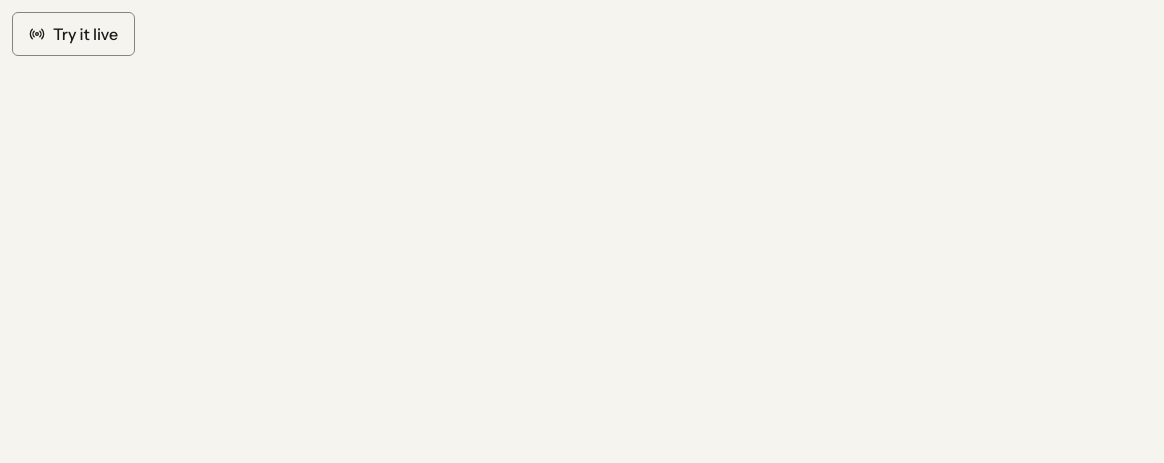
Scenario: TryLive › runs the current code and shows the output, each call’s cost and the allowance
This screenshot has width=1164, height=463.
Click the button "Try it live": [74, 34] box [12,12,135,56]
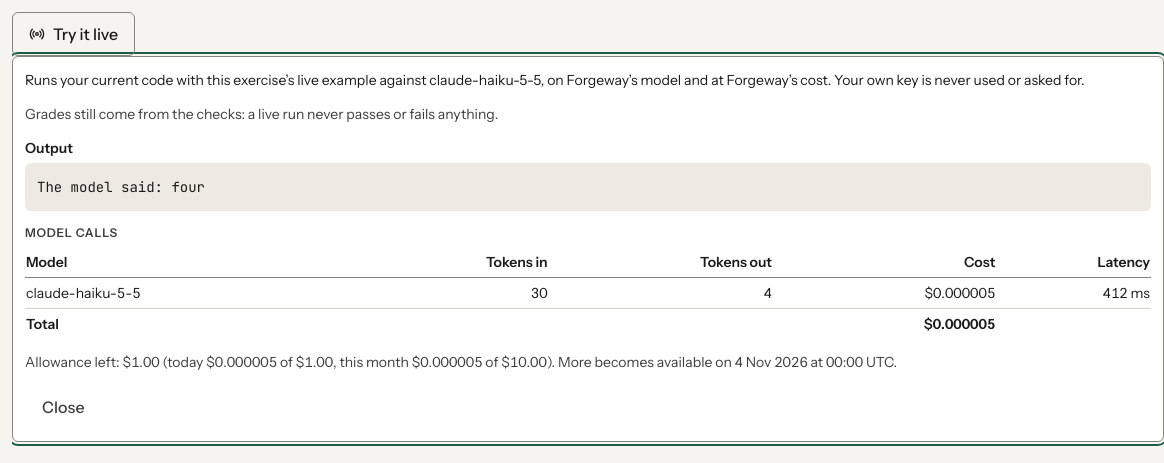
Result: the text "never used or asked for" is shown at [25,71,1084,89]
Result: the text "Grades still come from the checks" is shown at [25,105,498,123]
Result: the text "The model said: four" is shown at [25,163,1151,211]
